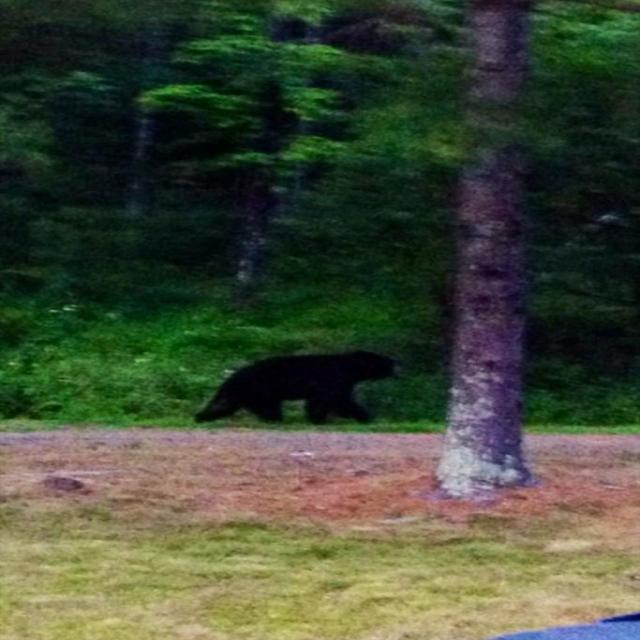Buffalo: (193, 350, 396, 428)
